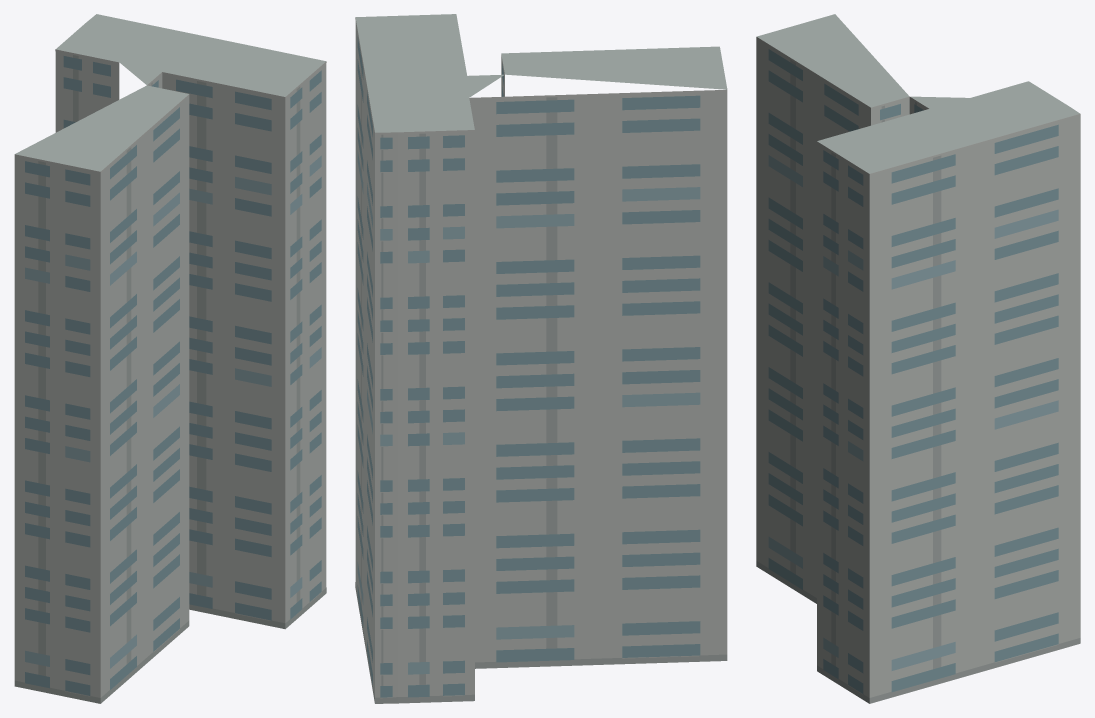
The model's file is residential-5c0f40c3-687f-4d20-bf2d-6dd9f387c0e8.glb.
3 renders of one model, left to right at view 1: azimuth 30°, elevation 25°; view 2: azimuth 150°, elevation 25°; view 3: azimuth 270°, elevation 25°, orthographic. The views are drawn at different scales.
Visible parts, largest first — view 1: residential-5c0f40c3-687f-4d20-bf2d-6dd9f387c0e8.tmp; view 2: residential-5c0f40c3-687f-4d20-bf2d-6dd9f387c0e8.tmp; view 3: residential-5c0f40c3-687f-4d20-bf2d-6dd9f387c0e8.tmp.
Boxes of the visible parts, x1,y1,x2,y2 form: residential-5c0f40c3-687f-4d20-bf2d-6dd9f387c0e8.tmp: [14, 14, 326, 703]; residential-5c0f40c3-687f-4d20-bf2d-6dd9f387c0e8.tmp: [355, 14, 727, 703]; residential-5c0f40c3-687f-4d20-bf2d-6dd9f387c0e8.tmp: [756, 14, 1080, 703].
Size of the model in its own units: 44.04 by 68 by 37.69.
